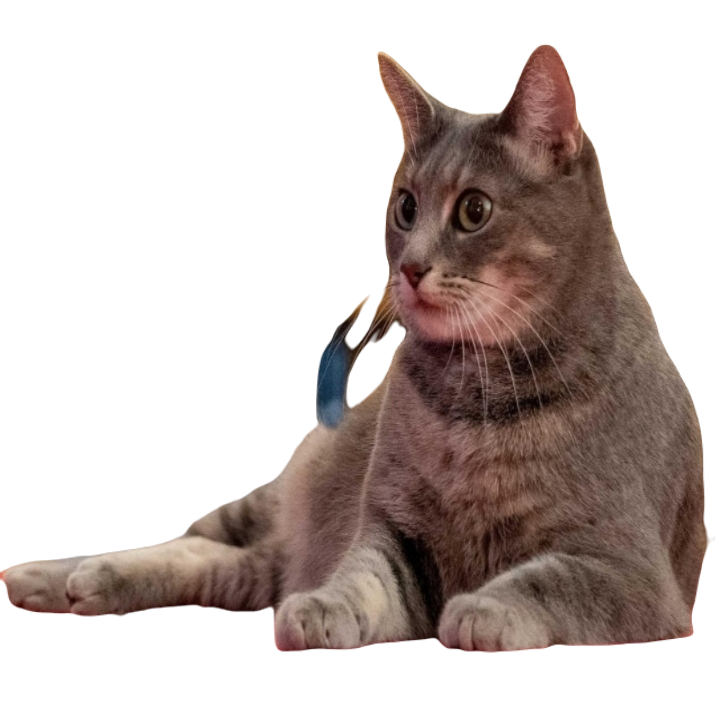Cat: (0, 45, 697, 653)
